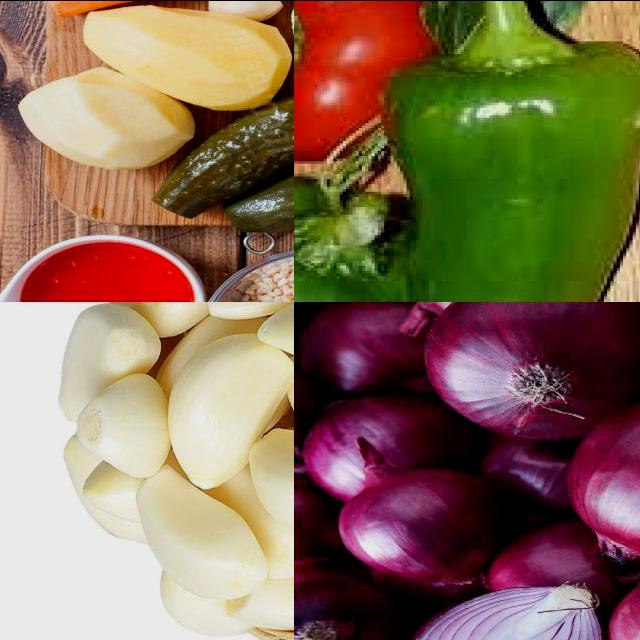bell_pepper: (295, 166, 443, 302)
carrot: (55, 1, 184, 15)
cucumber: (175, 116, 295, 201), (251, 179, 295, 226)
garlic: (56, 302, 295, 637)
onion: (428, 302, 640, 438), (336, 442, 512, 586), (301, 396, 473, 500), (565, 398, 640, 565), (400, 588, 607, 640), (295, 584, 410, 640)
potato: (79, 15, 283, 83), (26, 75, 181, 159)
